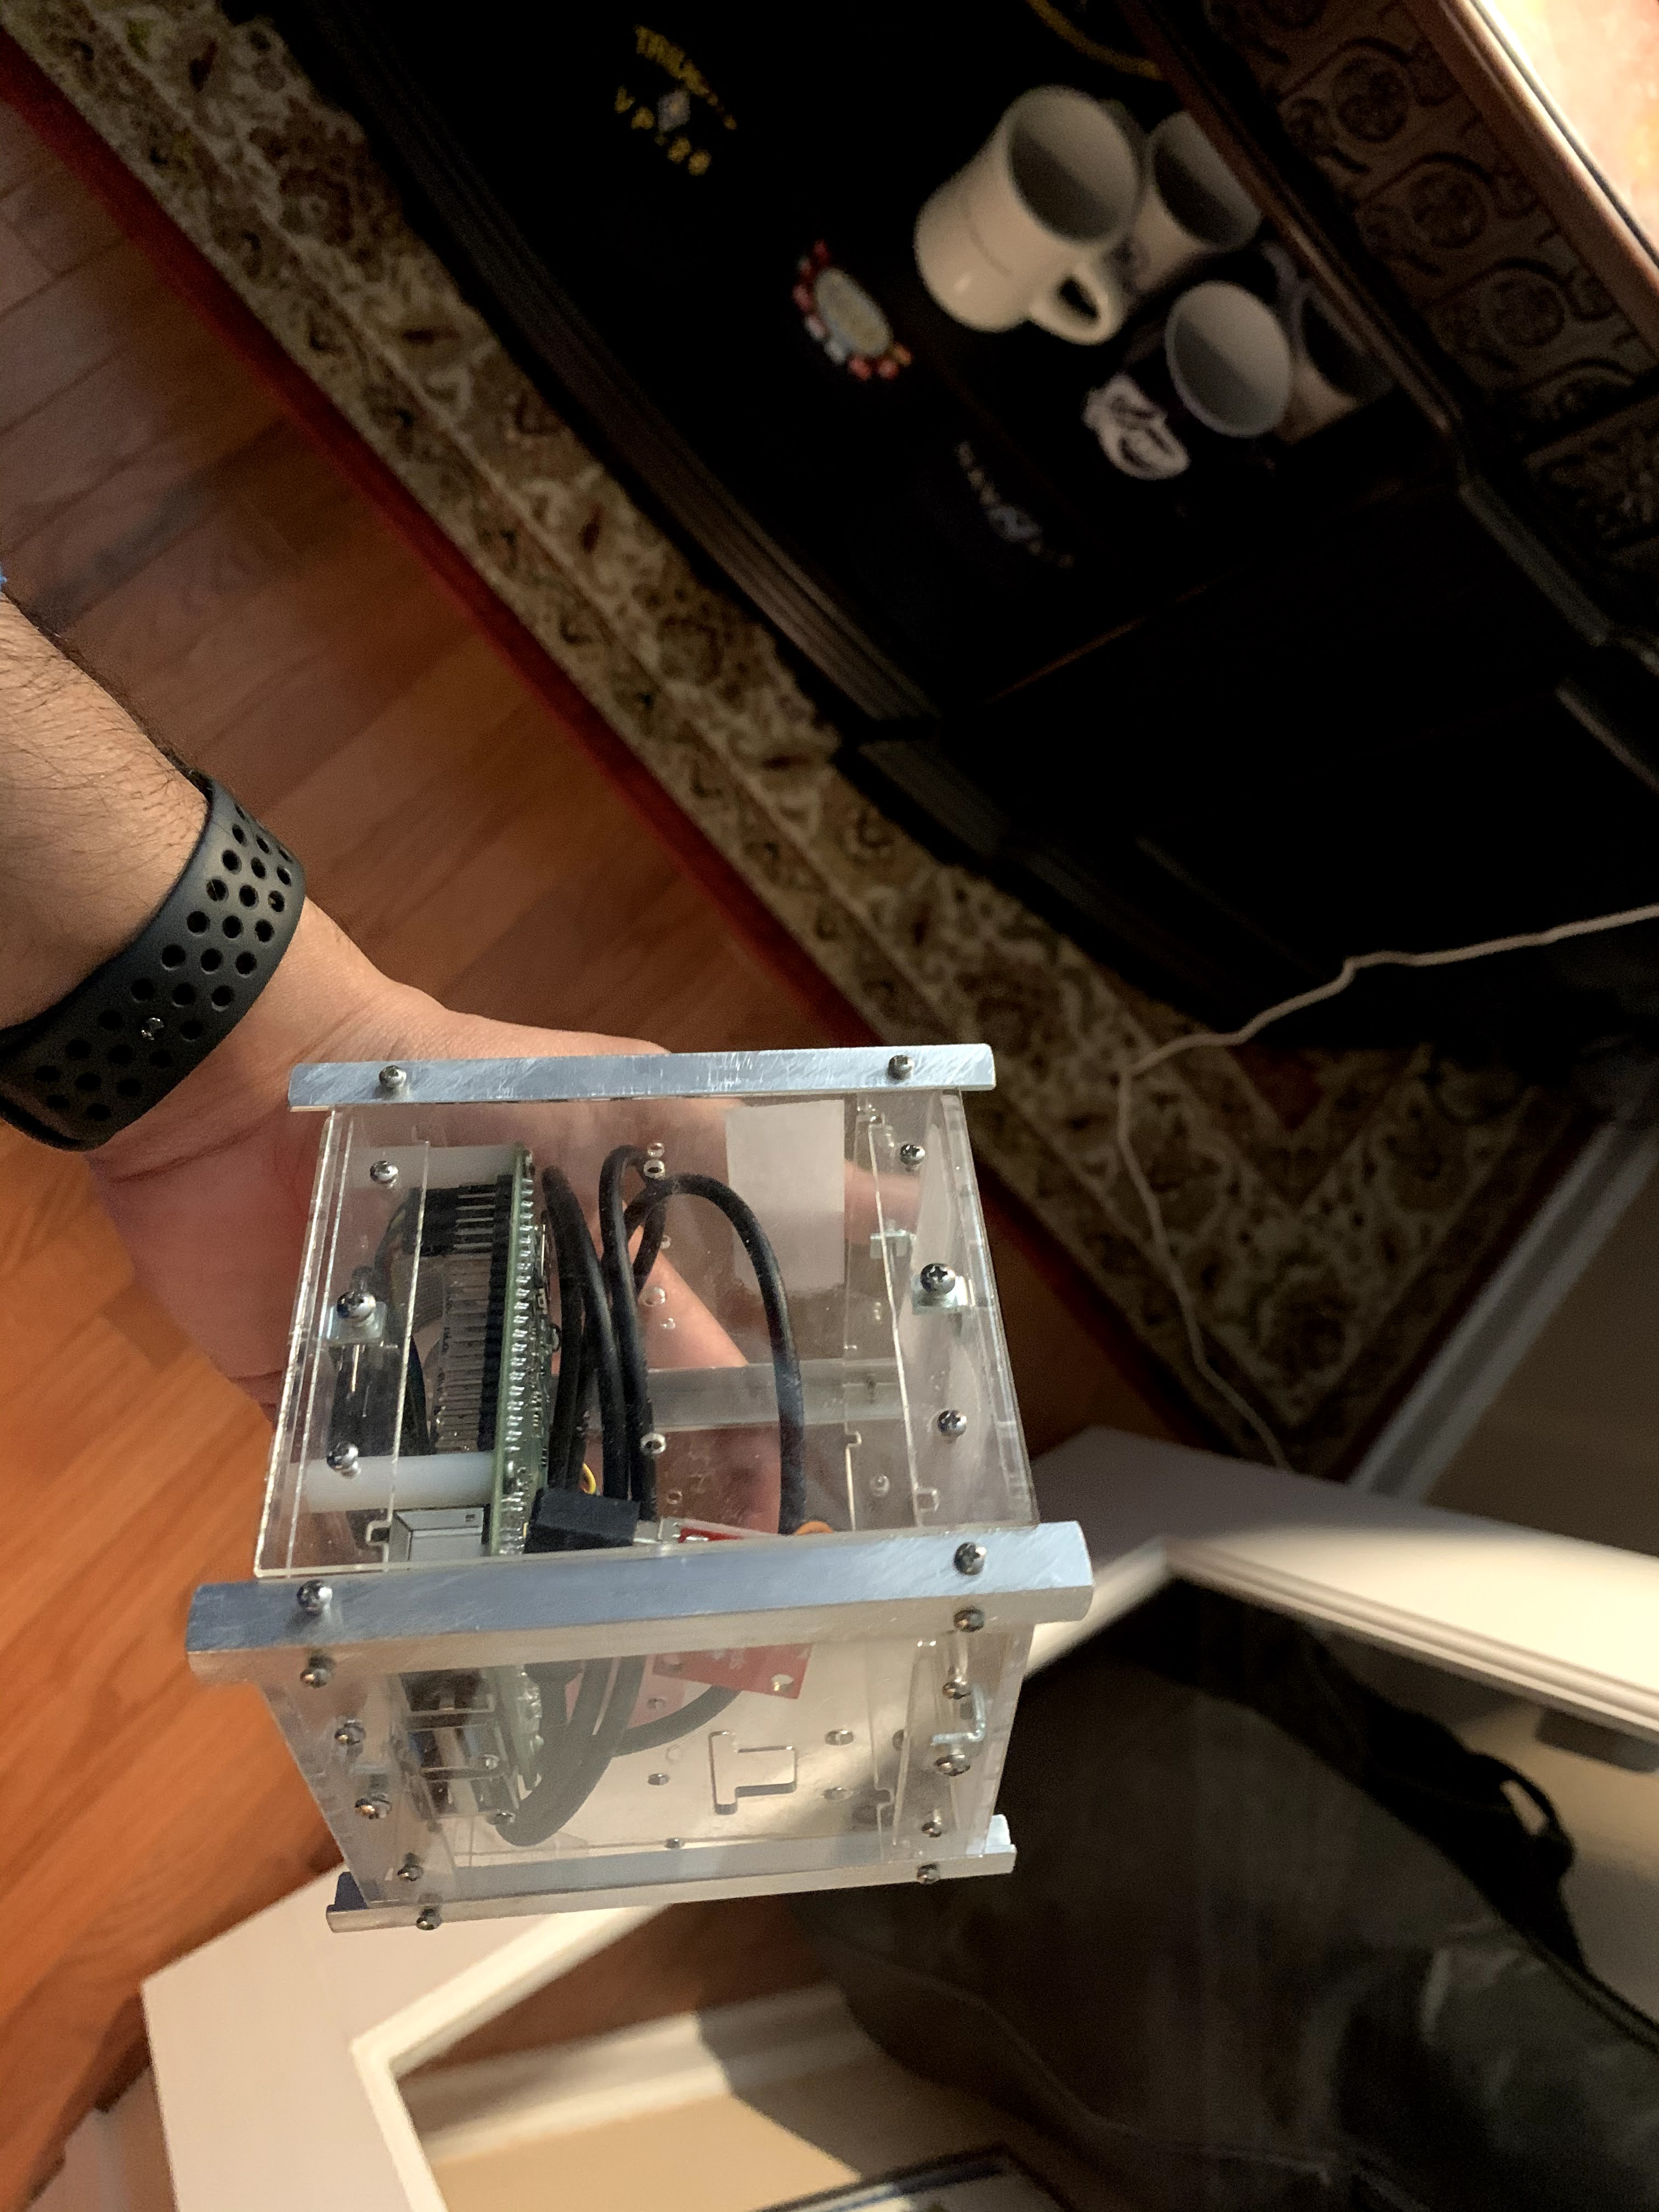Space-debris-cubesat: (249, 1012, 1082, 1939)
